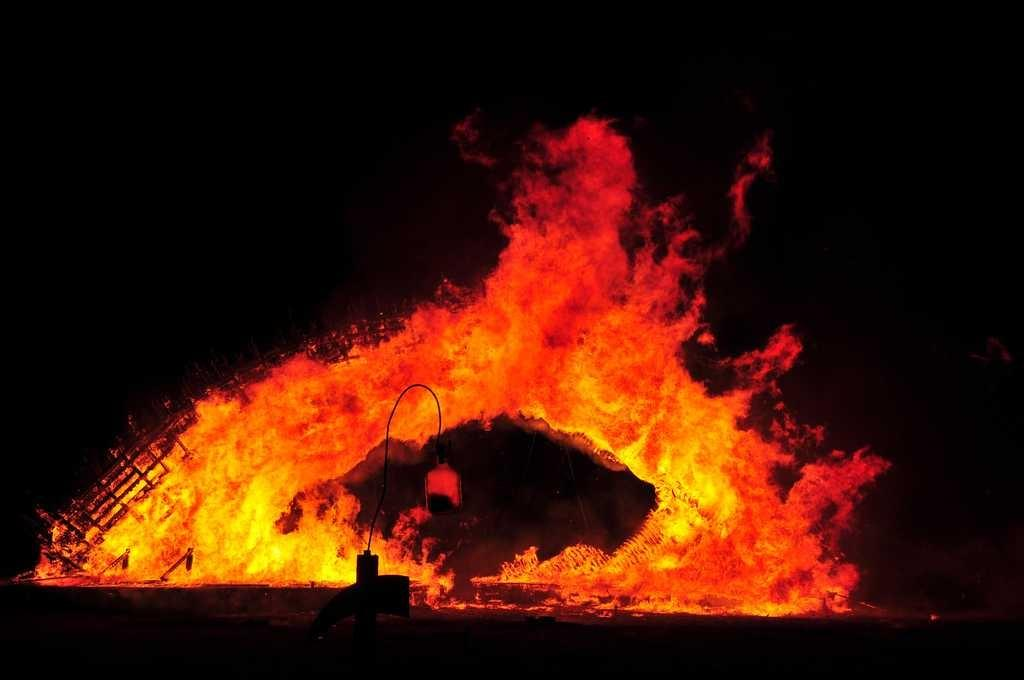fire: (165, 398, 318, 587), (488, 285, 678, 422), (662, 437, 802, 607), (343, 355, 480, 427)
